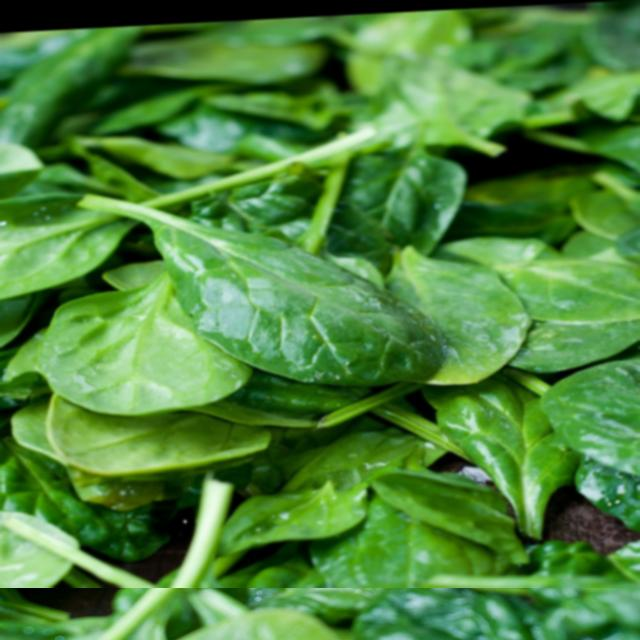spanich: (0, 0, 640, 588)
